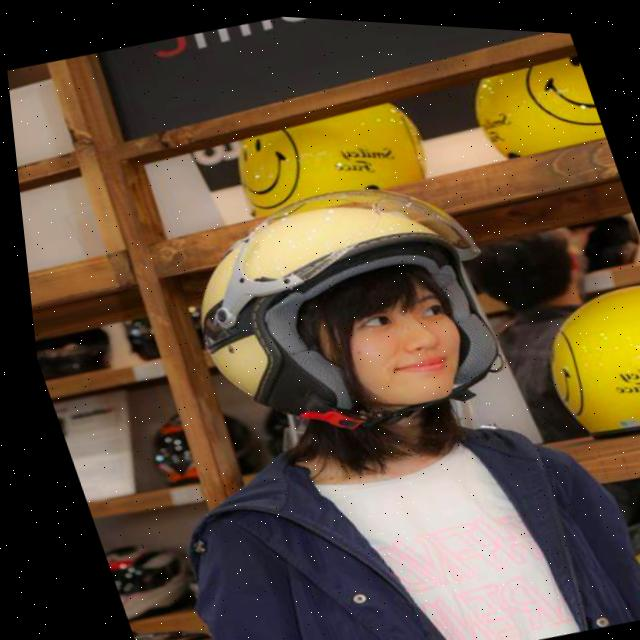helmet: (131, 137, 541, 480)
